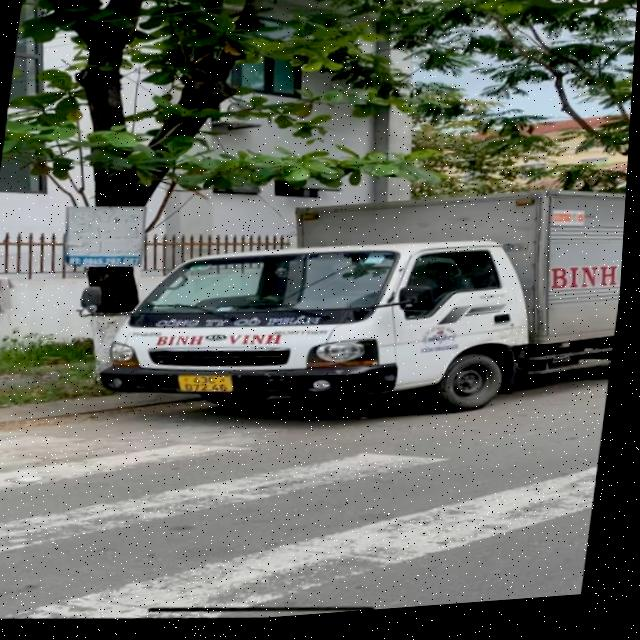car: (87, 162, 628, 443)
plate: (168, 363, 241, 403)
